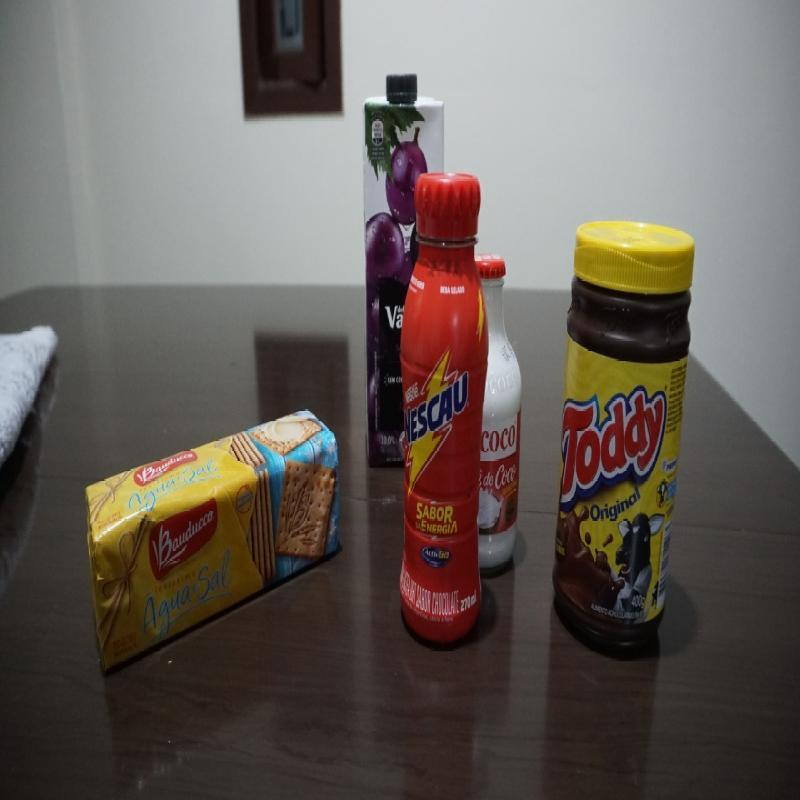Chocolate Milk: (396, 170, 490, 649)
Chocolate Powder: (549, 219, 696, 660)
Coconut Milk: (476, 256, 526, 567)
Cracker: (81, 405, 340, 678)
